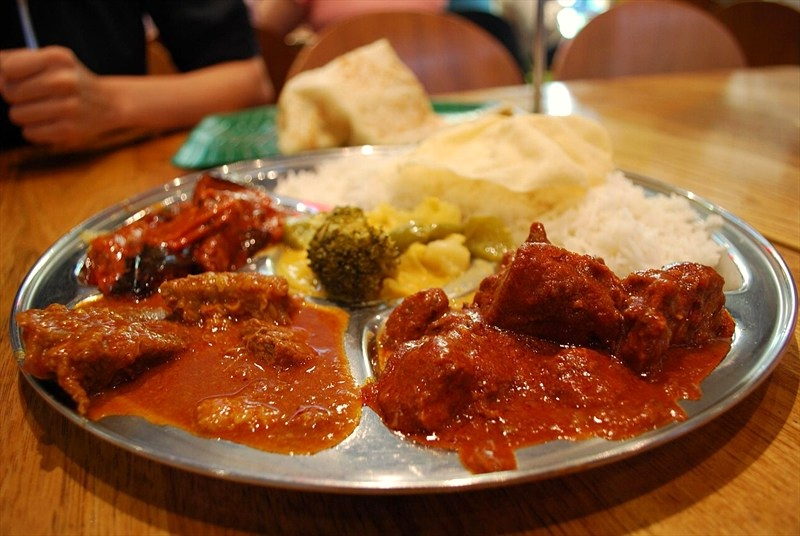Rendang: (122, 53, 763, 492)
